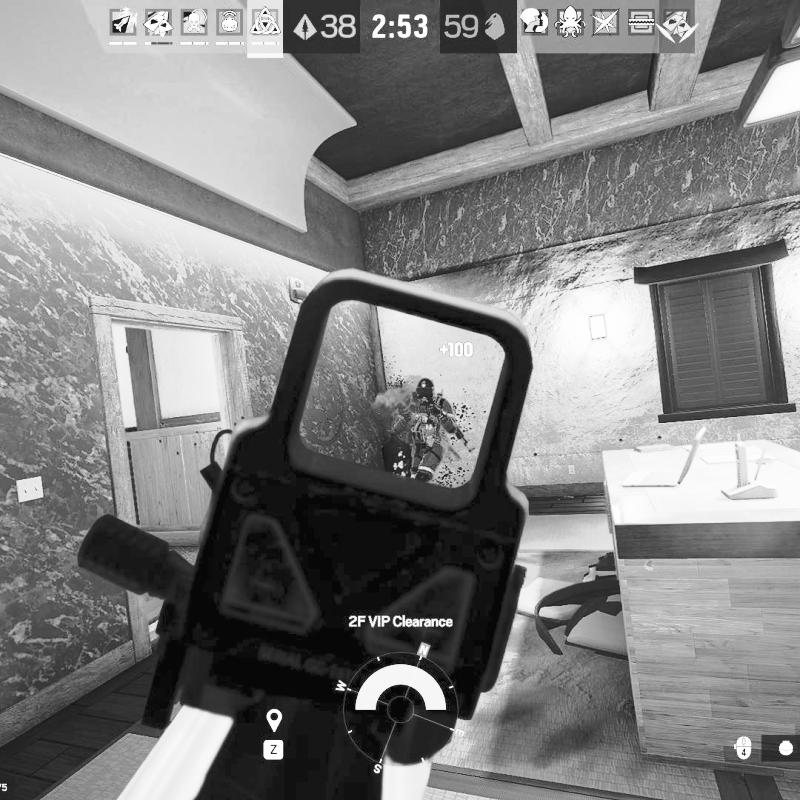Character: (398, 375, 480, 484)
Head: (415, 376, 436, 403)
